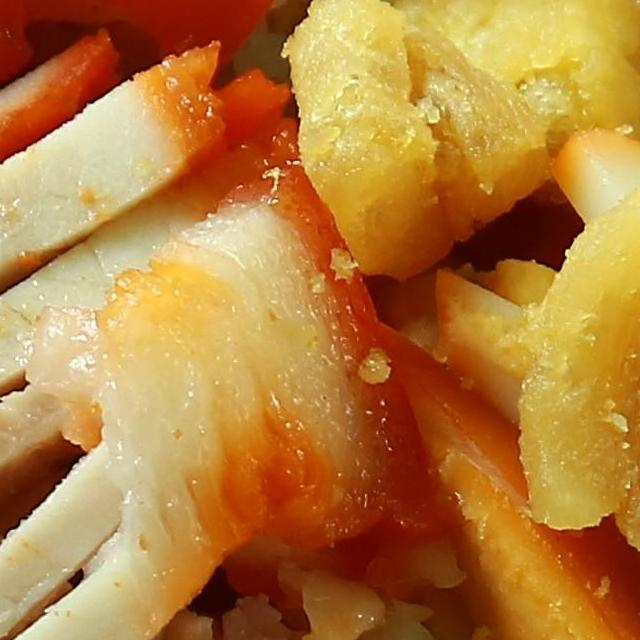suon: (0, 0, 558, 640)
trung: (352, 63, 640, 640)
